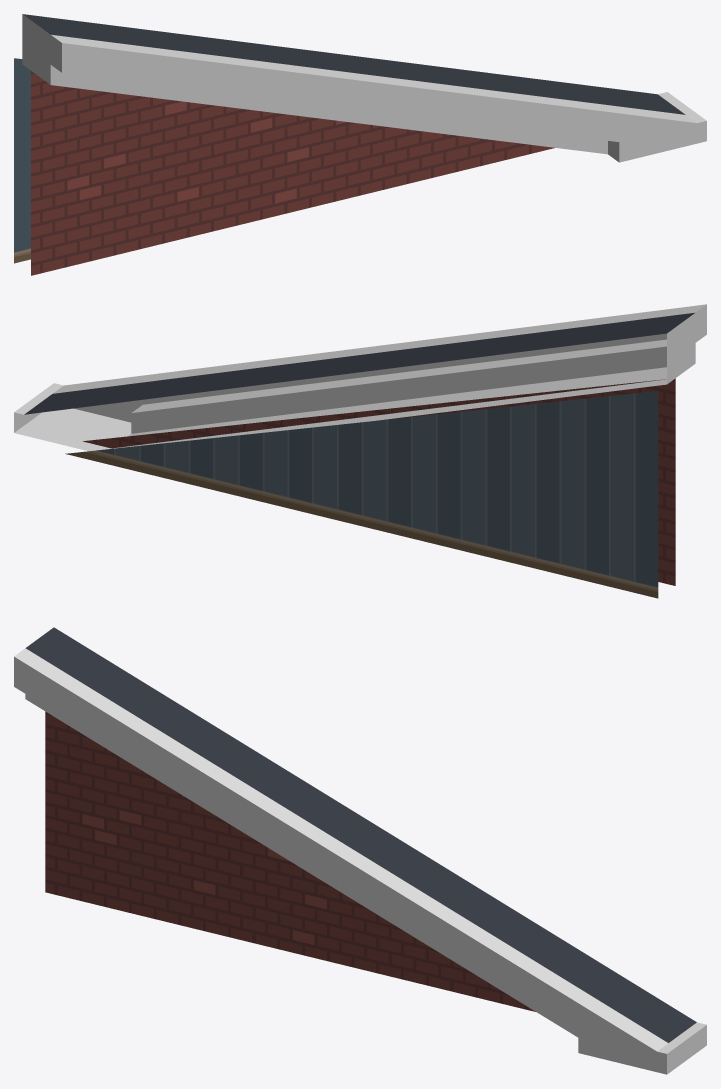
File: SM_roof_04_ending.glb
The picture shows the model from 3 angles, top to bottom: view 1: azimuth 30°, elevation 25°; view 2: azimuth 150°, elevation 25°; view 3: azimuth 330°, elevation 25°; orthographic projection.
Parts seen in each view (by area): view 1: SM_roof_04_ending; view 2: SM_roof_04_ending; view 3: SM_roof_04_ending.
Part boxes in pixels (x1,y1,x2,y2): SM_roof_04_ending: [14, 14, 706, 275]; SM_roof_04_ending: [14, 304, 706, 598]; SM_roof_04_ending: [14, 627, 706, 1074].
Size of the model in its own units: 6.6 by 2.5 by 0.85.
3 materials, 3 textured.
